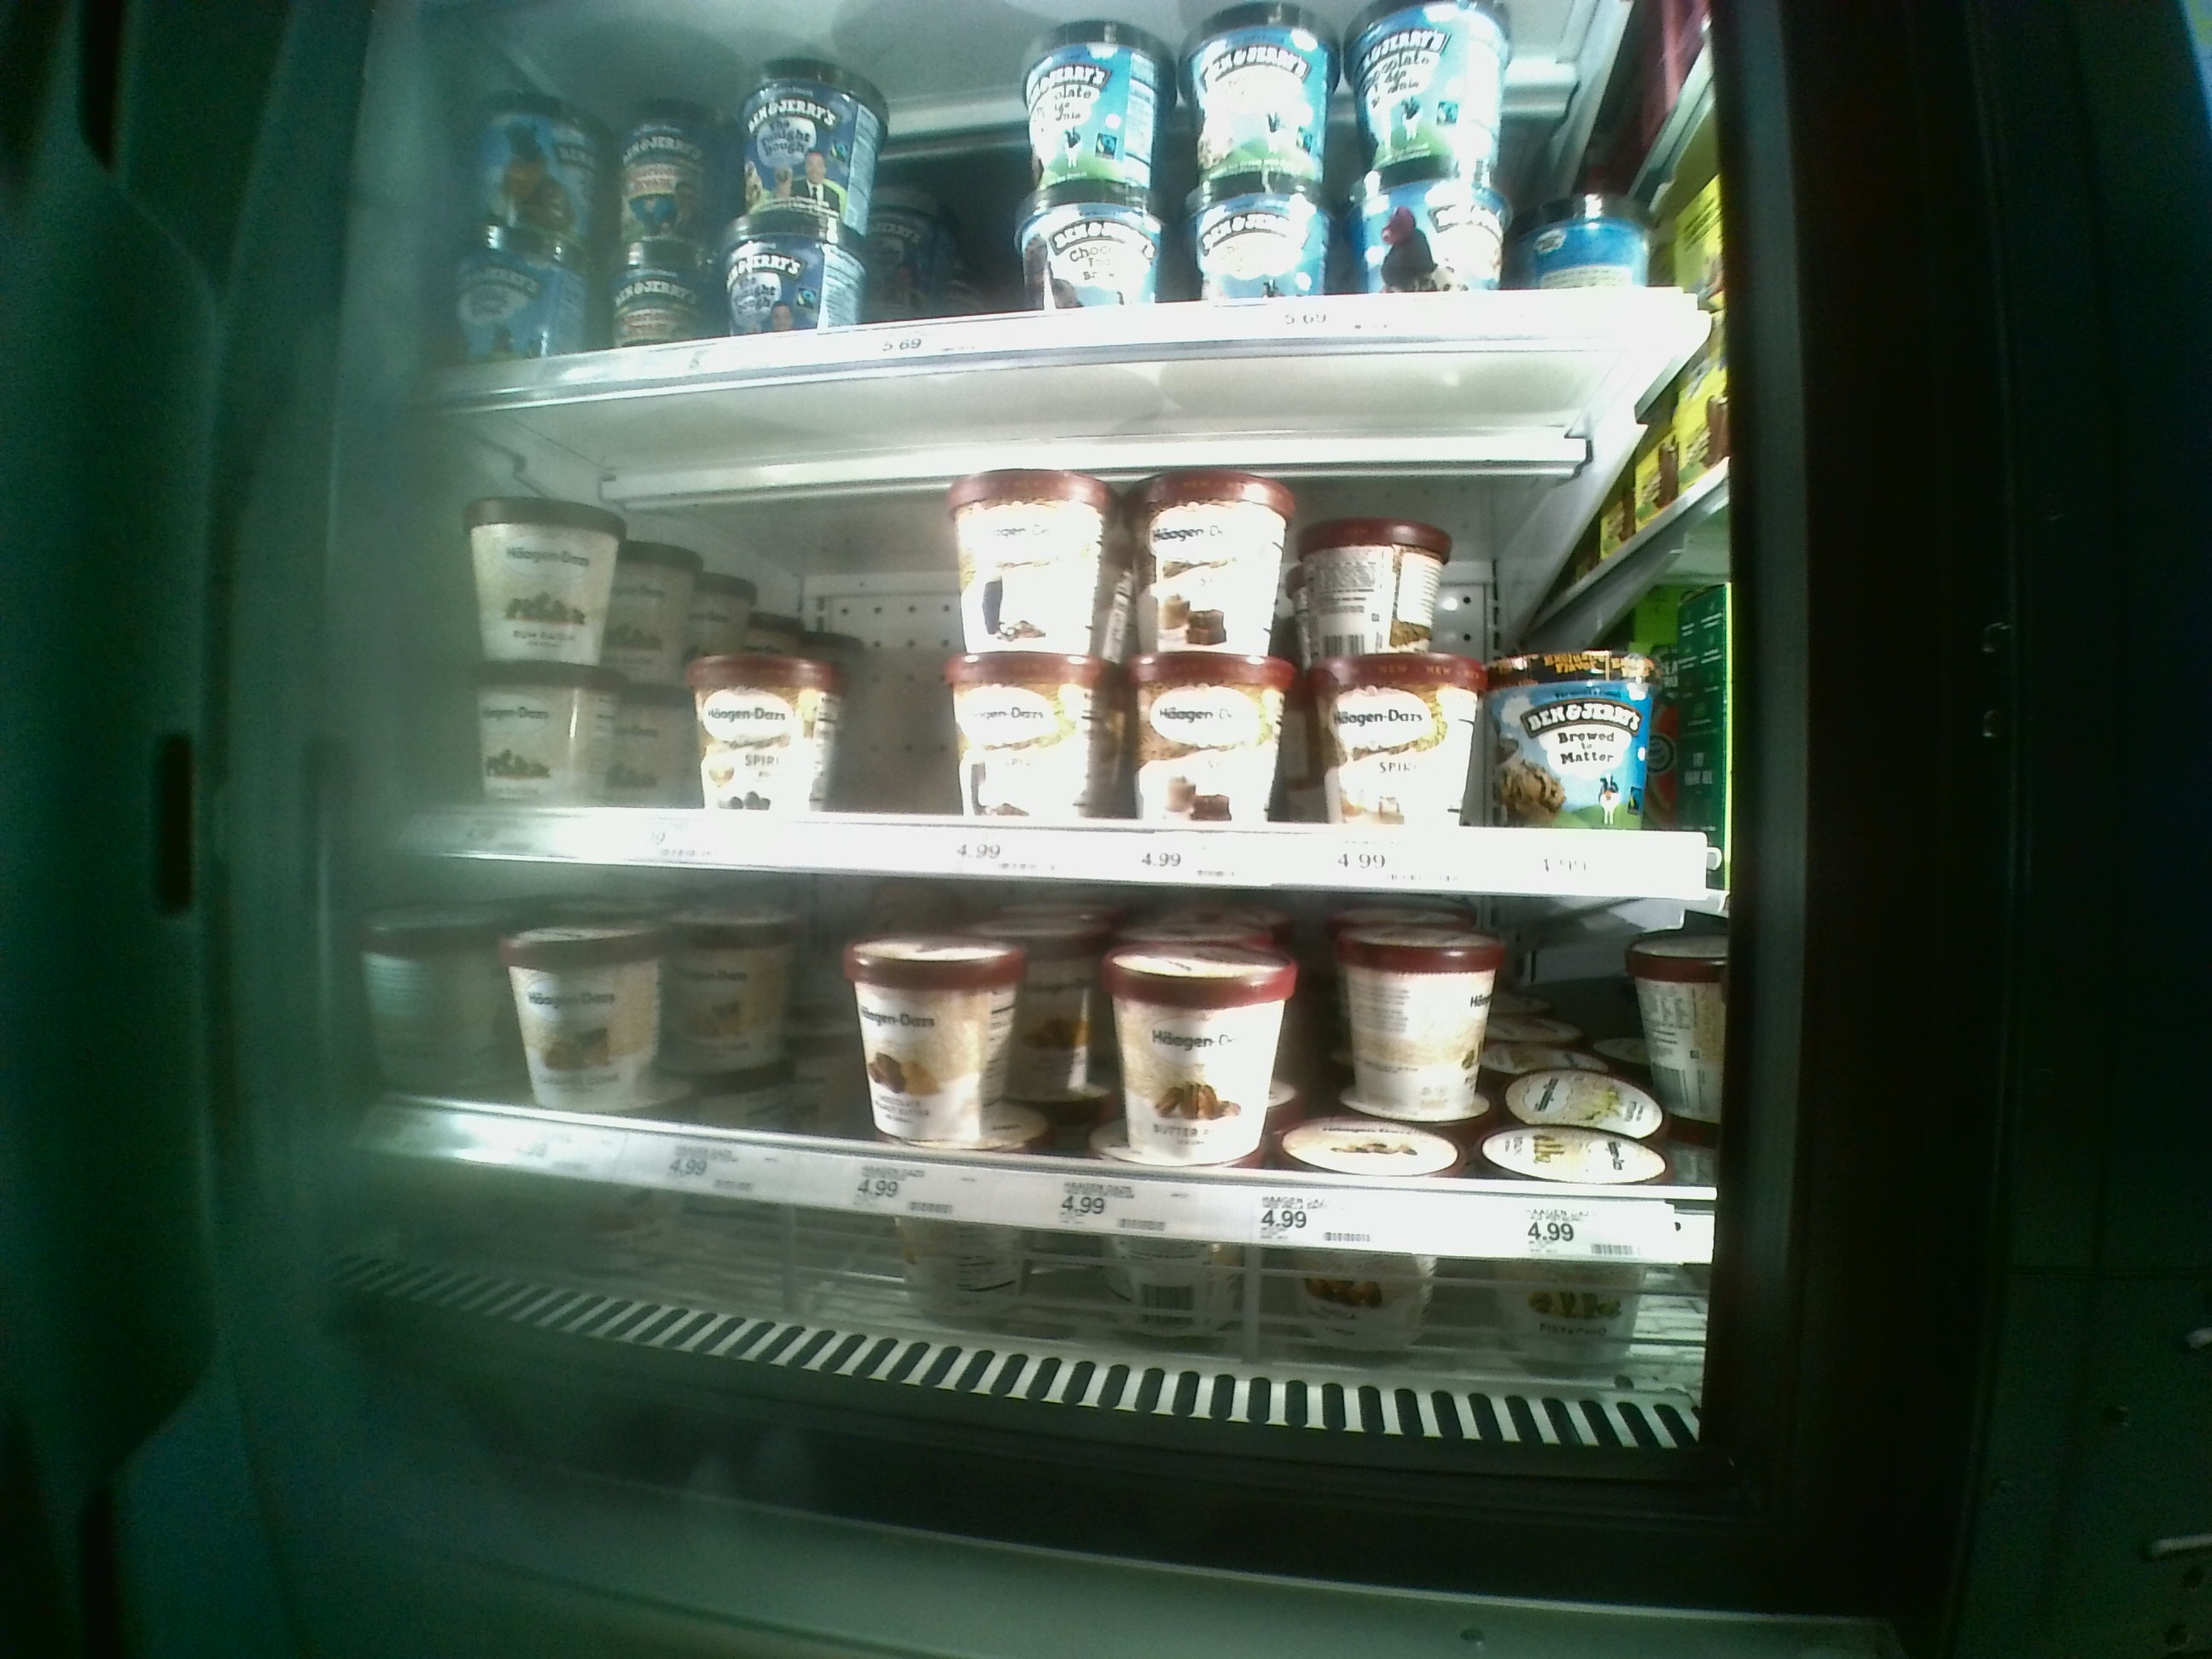ice-cream-shelf: (425, 361, 1726, 887), (387, 884, 1742, 1279)
